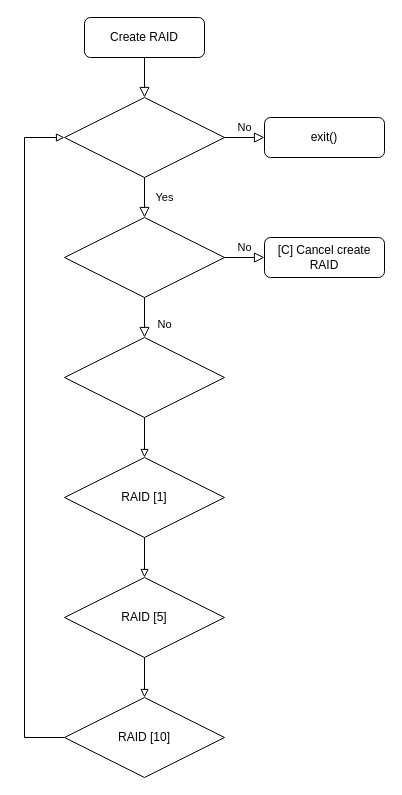
Image size: 402x795. Some labels were removed from this diagram. Here are the shapes that lost their labels. From the top down, the centre of each, then its label:
At point (144, 137): "Create Raid? [Y] [N]".
At point (144, 257): "Select Raid Level".
At point (144, 377): "RAID [0]".
